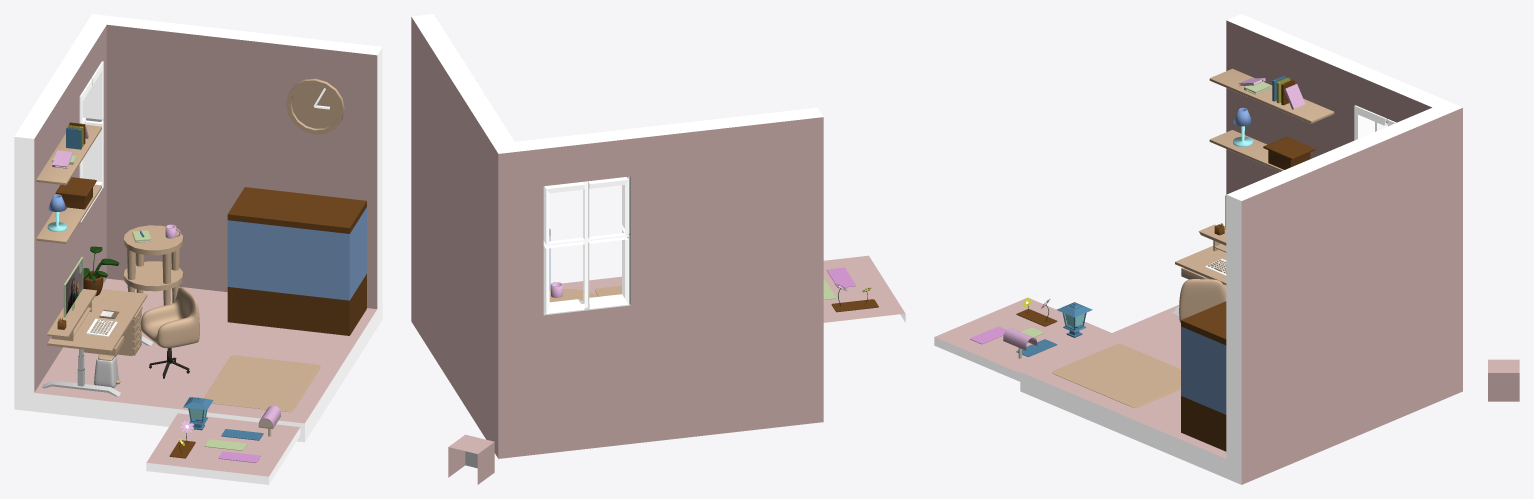
File: Finale Version 2.glb
The picture shows the model from 3 angles, left to right: view 1: azimuth 30°, elevation 25°; view 2: azimuth 150°, elevation 25°; view 3: azimuth 270°, elevation 25°; orthographic projection. The views are drawn at different scales.
Visible parts, largest first — view 1: Body, Aquarium, Desks, Mini Floor, Floor Items, Shelf, Table Stuff, Clock, Chair, Computer, Lamp, Mailbox; view 2: Body, Mini Floor, Cube; view 3: Body, Aquarium, Mini Floor, Shelf, Floor Items, Chair, Cube, Desks, Table Stuff, Lamp.
Boxes of the visible parts, <box> form: Body: <box>14,14,382,442</box>; Aquarium: <box>227,187,366,335</box>; Desks: <box>41,225,183,396</box>; Mini Floor: <box>146,413,300,484</box>; Floor Items: <box>94,306,320,412</box>; Shelf: <box>36,122,101,243</box>; Table Stuff: <box>47,224,180,341</box>; Clock: <box>286,78,344,134</box>; Chair: <box>141,287,199,348</box>; Computer: <box>63,257,83,317</box>; Lamp: <box>183,397,213,430</box>; Mailbox: <box>258,405,280,436</box>; Body: <box>411,14,823,458</box>; Mini Floor: <box>823,255,905,322</box>; Cube: <box>448,434,494,484</box>; Body: <box>1020,14,1462,484</box>; Aquarium: <box>1181,301,1226,451</box>; Mini Floor: <box>934,297,1111,381</box>; Shelf: <box>1209,68,1334,171</box>; Floor Items: <box>1052,344,1180,407</box>; Chair: <box>1179,279,1226,322</box>; Cube: <box>1488,359,1519,401</box>; Desks: <box>1172,246,1226,315</box>; Table Stuff: <box>1198,223,1226,275</box>; Lamp: <box>1056,302,1092,337</box>.
Size of the model in its own units: 16.41 by 11.66 by 21.68.
Materials: 25 (1 with a texture image).
